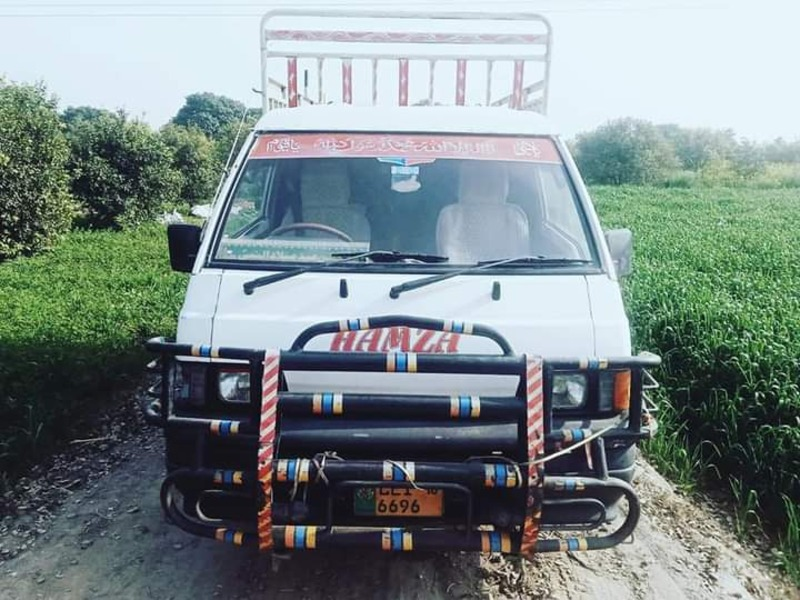License Plate: (348, 480, 450, 525)
